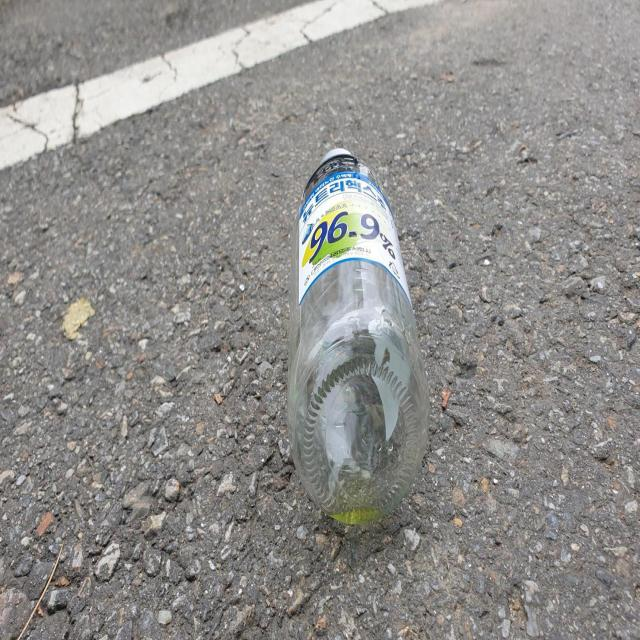glass: (288, 147, 430, 524)
